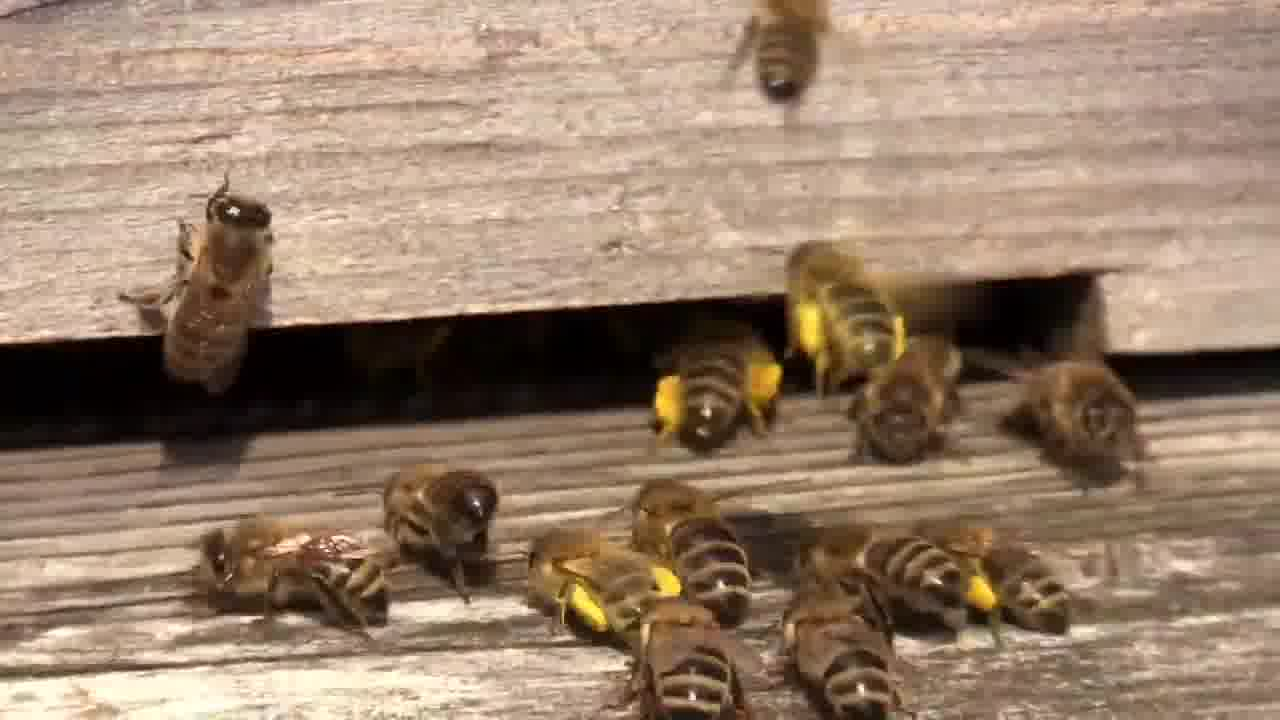pollen: (638, 323, 793, 449), (523, 513, 680, 637), (794, 241, 905, 388)
